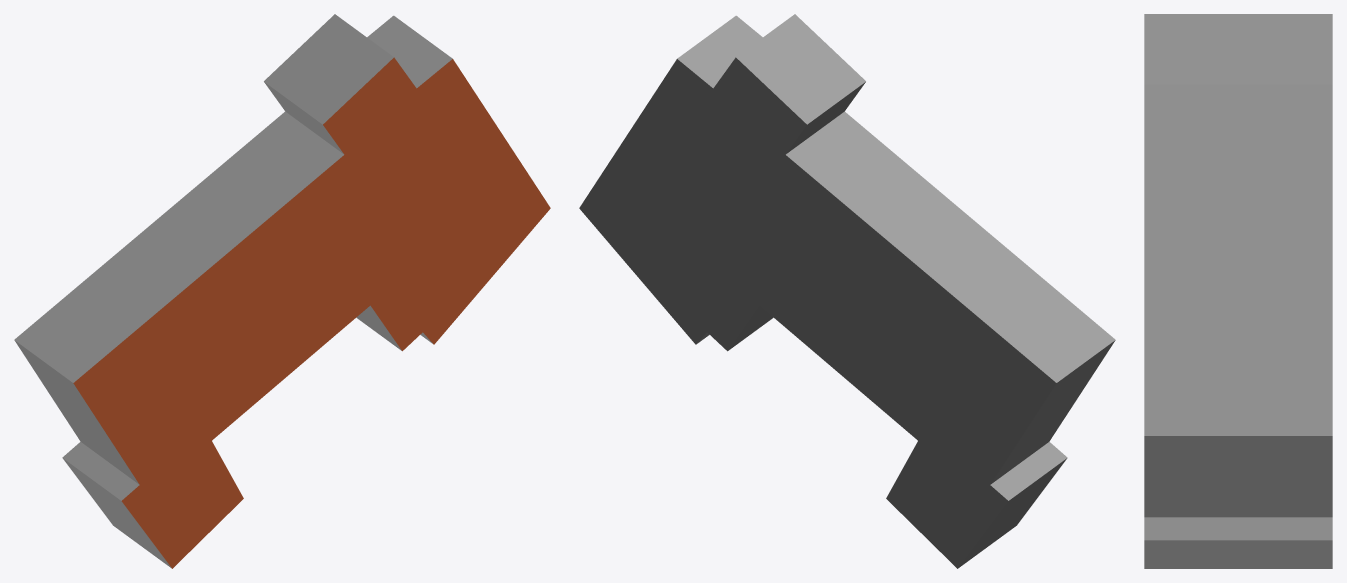
File: construction_1295_assumed_A_Casa_h6m.obj
3 views of the same model, side by side, from view 1: azimuth 30°, elevation 25°; view 2: azimuth 150°, elevation 25°; view 3: azimuth 270°, elevation 25° (orthographic). The views are drawn at different scales.
Parts seen in each view (by area): view 1: construction_1295_assumed_A_Casa; view 2: construction_1295_assumed_A_Casa; view 3: construction_1295_assumed_A_Casa.
Part boxes in pixels (left/top/right/bottom): construction_1295_assumed_A_Casa: left=14, top=14, right=550, bottom=568; construction_1295_assumed_A_Casa: left=579, top=14, right=1115, bottom=568; construction_1295_assumed_A_Casa: left=1144, top=14, right=1332, bottom=568.
Size of the model in its own units: 27.95 by 25.59 by 6.
